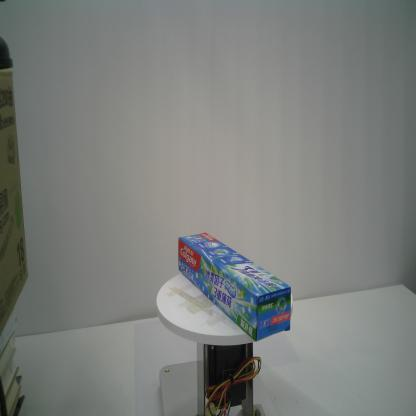Personal Hygiene: (178, 232, 291, 342)
